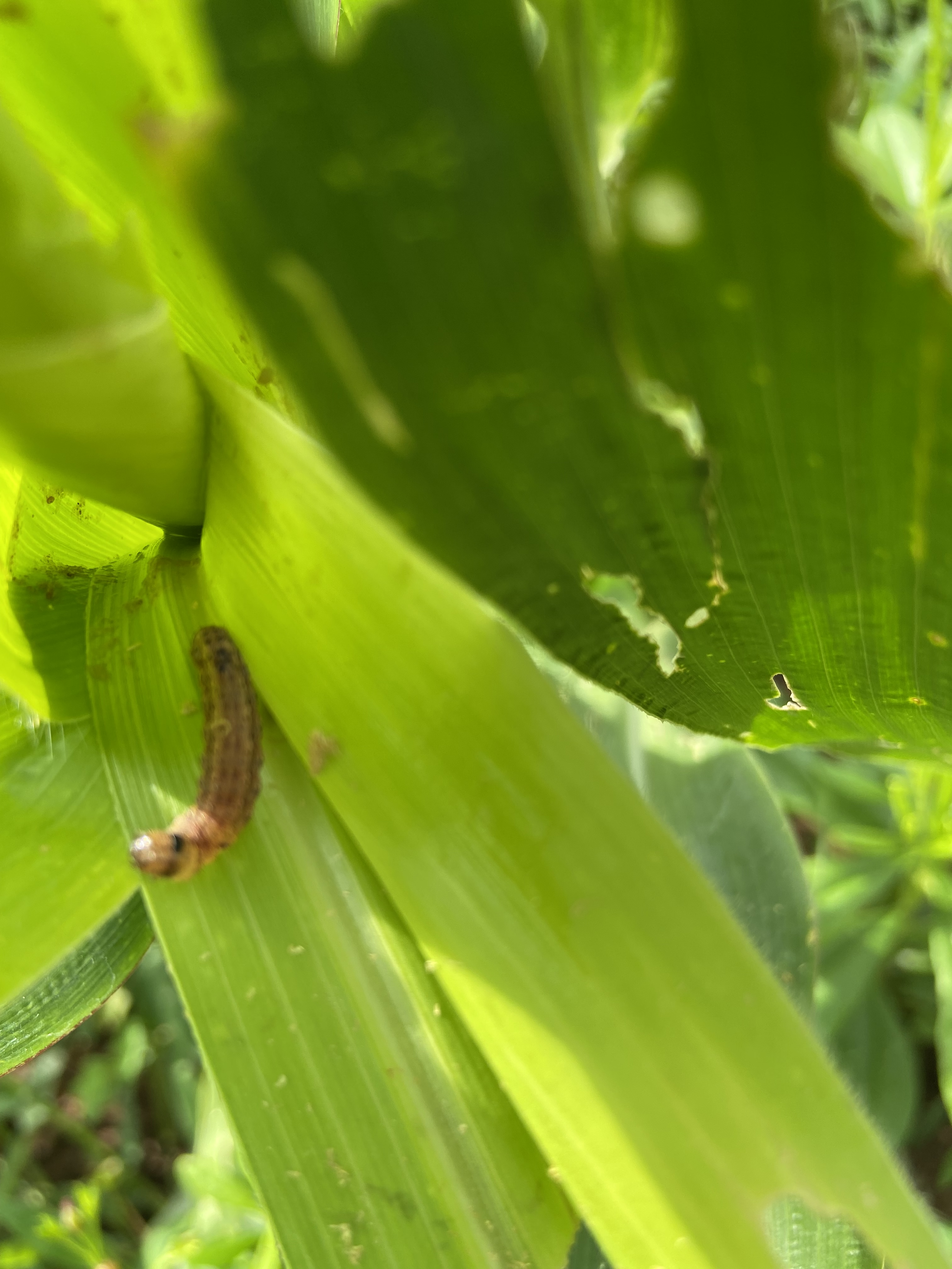early_to_moderate: (117, 610, 277, 893)
severe: (568, 547, 681, 690), (745, 656, 817, 736)
